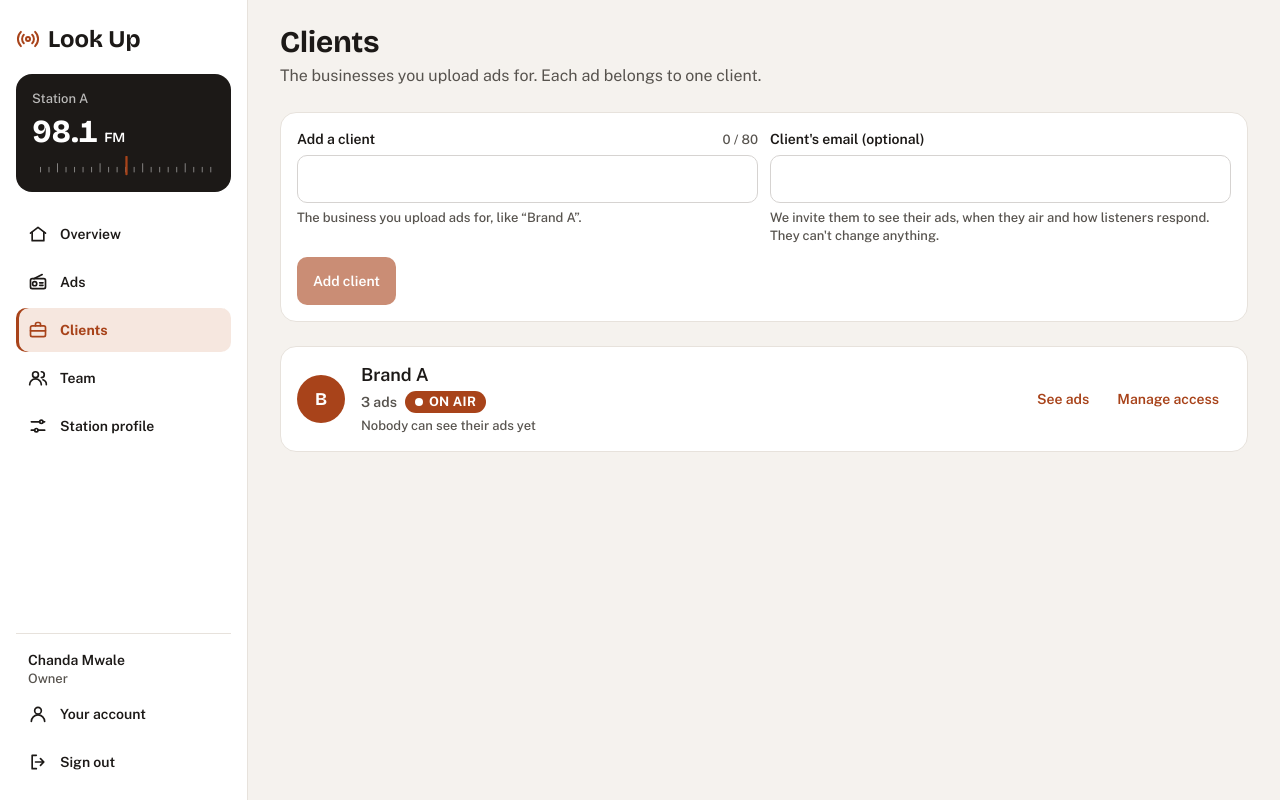
Test: Clients › says a duplicate name is taken, next to the box, in the server's own words
Expected: the text "Brand A" is shown, left=361, top=364, right=429, bottom=385
Type "Brand A" into the field labelled "Add a client".
click(528, 179); type("Brand A")  # box left=297, top=155, right=758, bottom=203
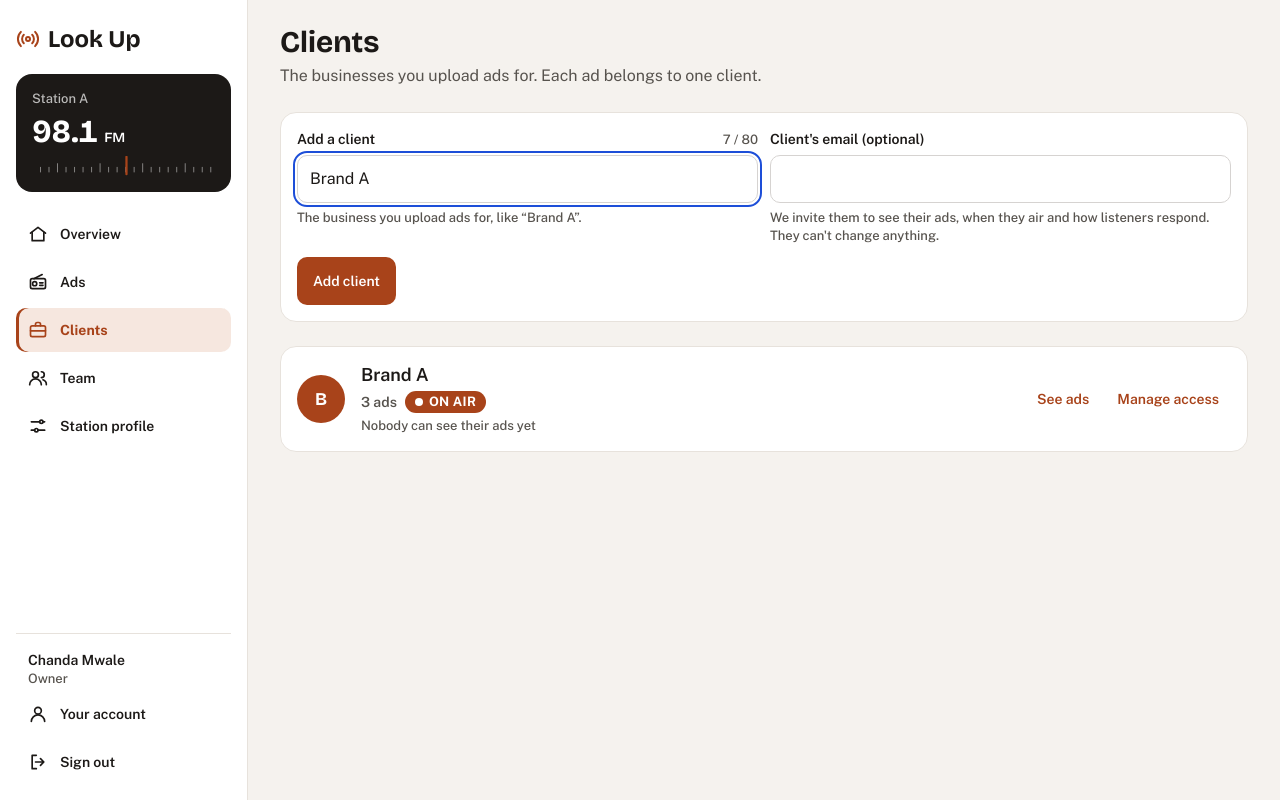
Click the button "Add client".
click(346, 281)  # box left=297, top=257, right=396, bottom=305
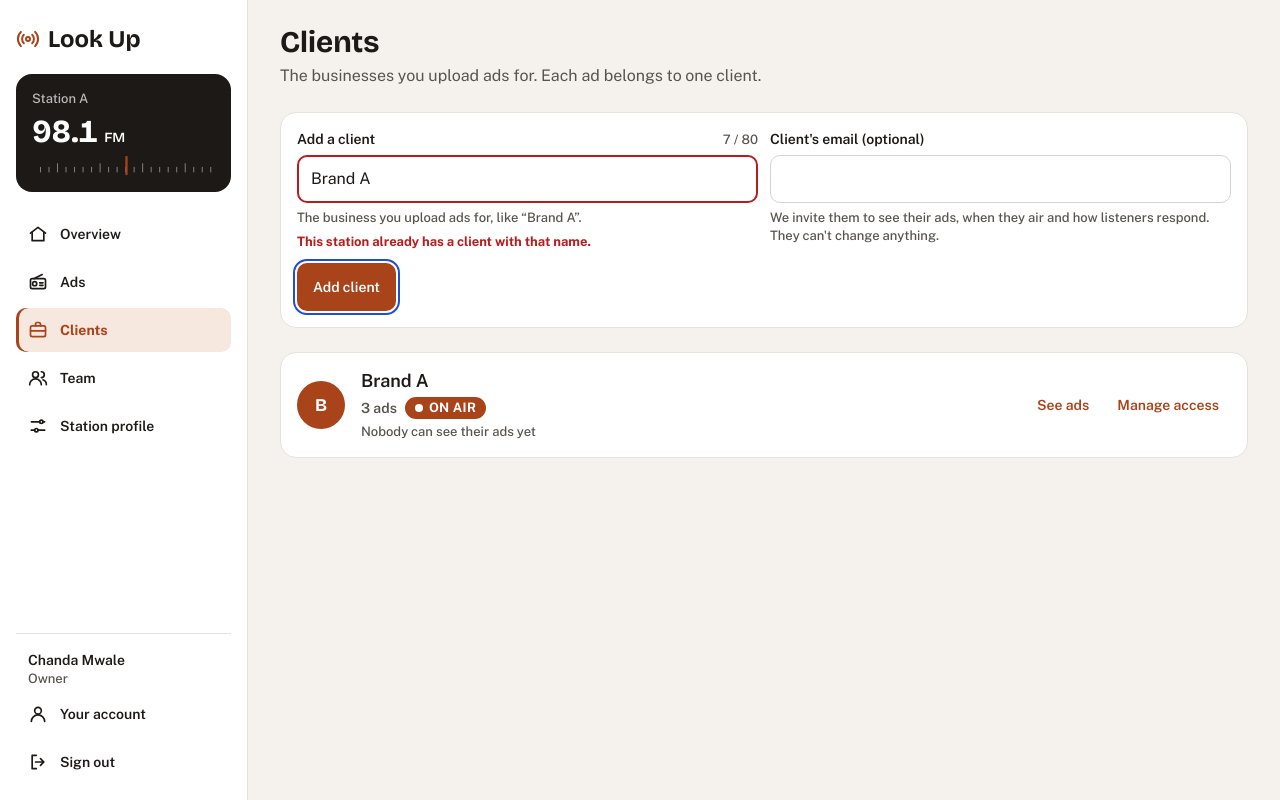
Result: the message reads "This station already has a client with that name." at left=297, top=234, right=591, bottom=249
